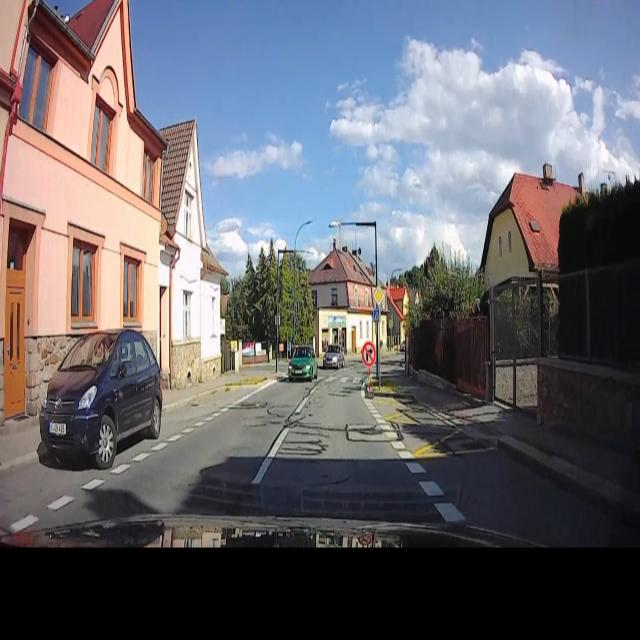Pedestrian crosswalk: (282, 362, 366, 388), (372, 308, 381, 322)
